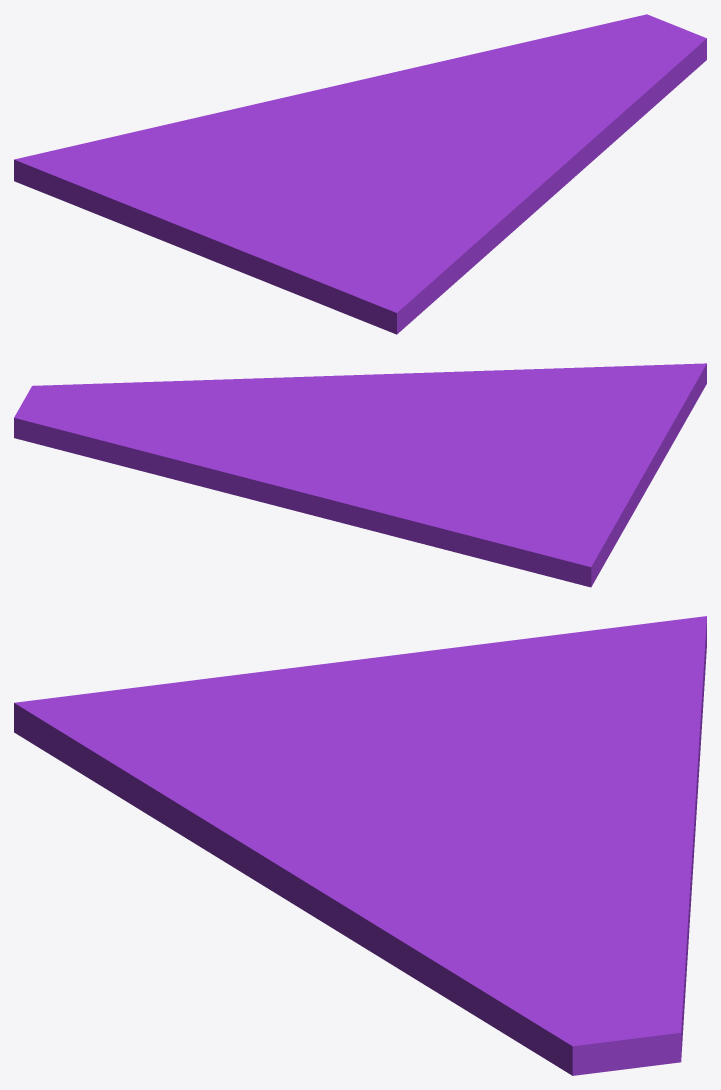
File: StairsStep_21.fbx
The picture shows the model from 3 angles, top to bottom: view 1: azimuth 30°, elevation 25°; view 2: azimuth 150°, elevation 25°; view 3: azimuth 270°, elevation 25°; orthographic projection. The views are drawn at different scales.
Visible parts, largest first — view 1: StairsStep_21; view 2: StairsStep_21; view 3: StairsStep_21.
Boxes of the visible parts, left/top/right/bottom form: StairsStep_21: left=14, top=14, right=706, bottom=334; StairsStep_21: left=14, top=363, right=706, bottom=587; StairsStep_21: left=14, top=616, right=706, bottom=1075.
Size of the model in its own units: 559 by 17.94 by 380.
